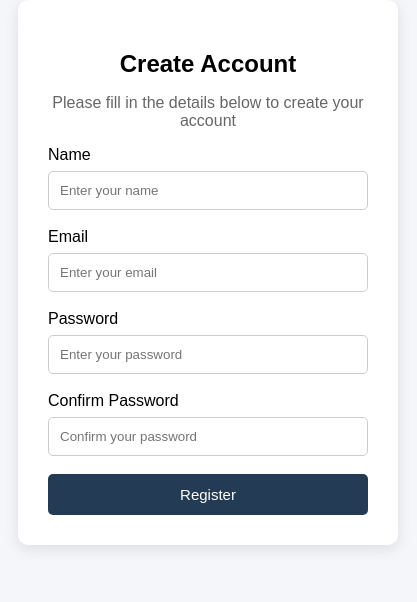
Test case: Register Component › should register user successfully
Type "Shipra Sharma" into the field with placeholder "Enter your name". click: {"x": 208, "y": 190}
box: [48,171,368,210]
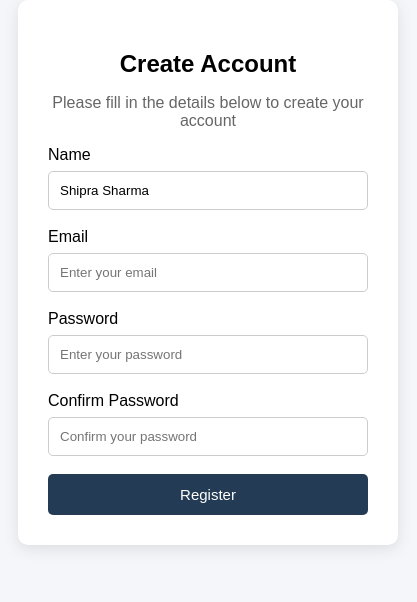
Type "shipra@gmail.com" into the field with placeholder "Enter your email". click: {"x": 208, "y": 272}
box: [48,253,368,292]
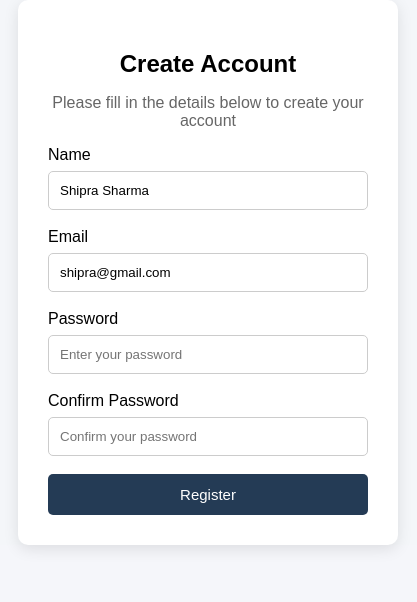
Type "Shipra@123" into the password field with placeholder "Enter your password". click: {"x": 208, "y": 354}
box: [48,335,368,374]
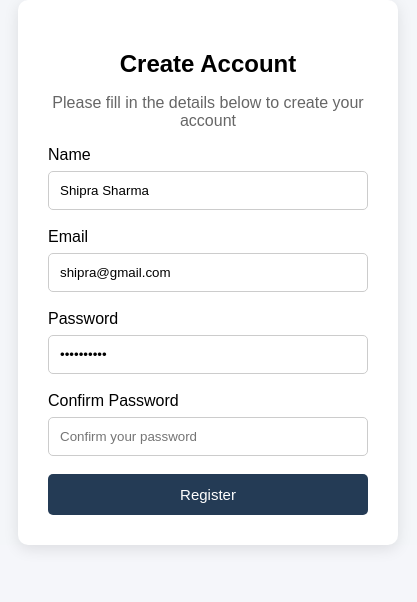
Type "Shipra@123" into the password field with placeholder "Confirm your password". click: {"x": 208, "y": 436}
box: [48,417,368,456]
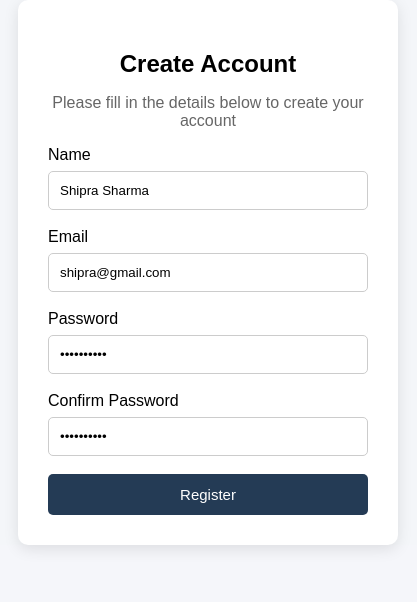
Click the button "Register". click: {"x": 208, "y": 494}
box: [48,474,368,515]
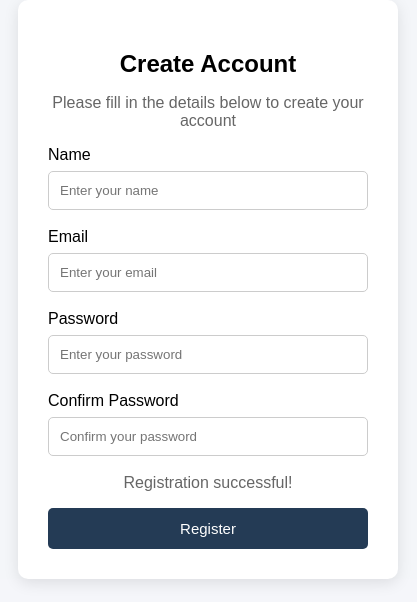
Expected: the text "Registration successful!" is shown, [124,474,292,491]
